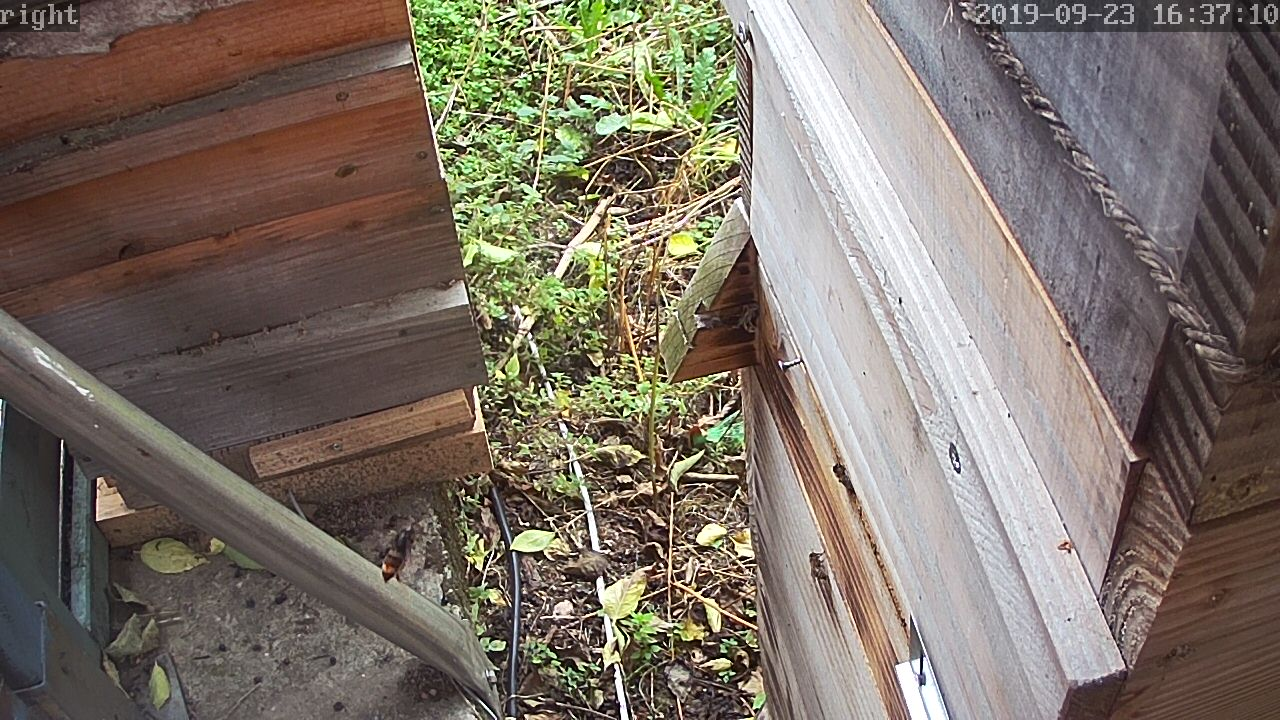bee: (824, 458, 856, 492), (804, 545, 832, 583)
hornet: (366, 520, 425, 585)
